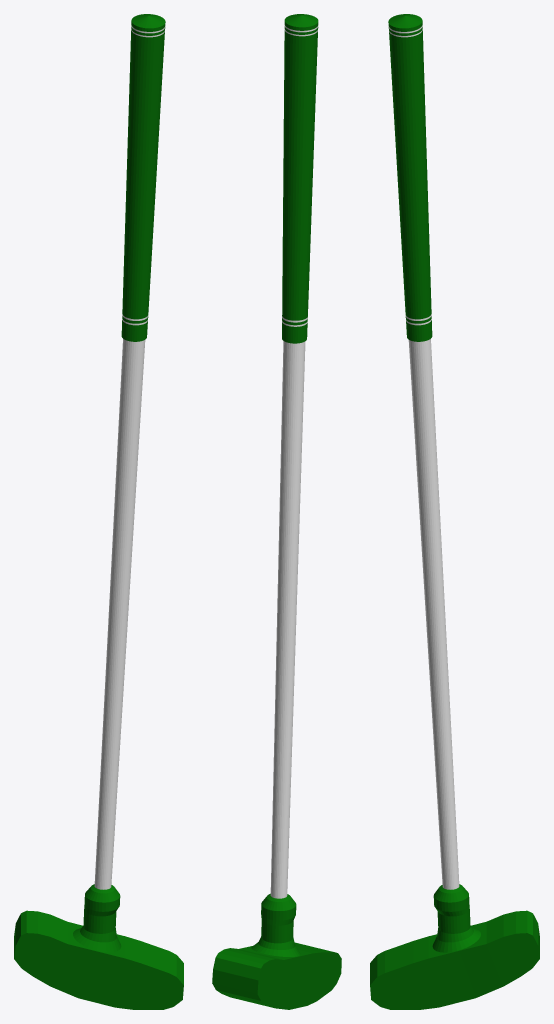
The model's file is GolfClub.fbx.
The picture shows the model from 3 angles, left to right: view 1: azimuth 90°, elevation 25°; view 2: azimuth 150°, elevation 25°; view 3: azimuth 270°, elevation 25°; orthographic projection.
Parts seen in each view (by area): view 1: GolfClub; view 2: GolfClub; view 3: GolfClub.
Part boxes in pixels (box(x1,y1,x2,y2)): GolfClub: box(14, 14, 183, 1009); GolfClub: box(212, 14, 341, 1009); GolfClub: box(370, 14, 539, 1009).
Bounding box in the file's own units: 4.32 × 88.59 × 13.88.
